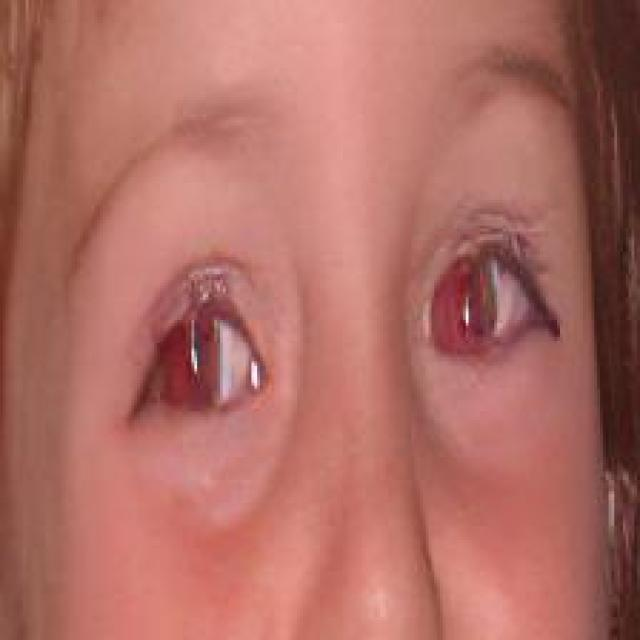reflexo-normal: (117, 266, 293, 482), (412, 238, 566, 380)
